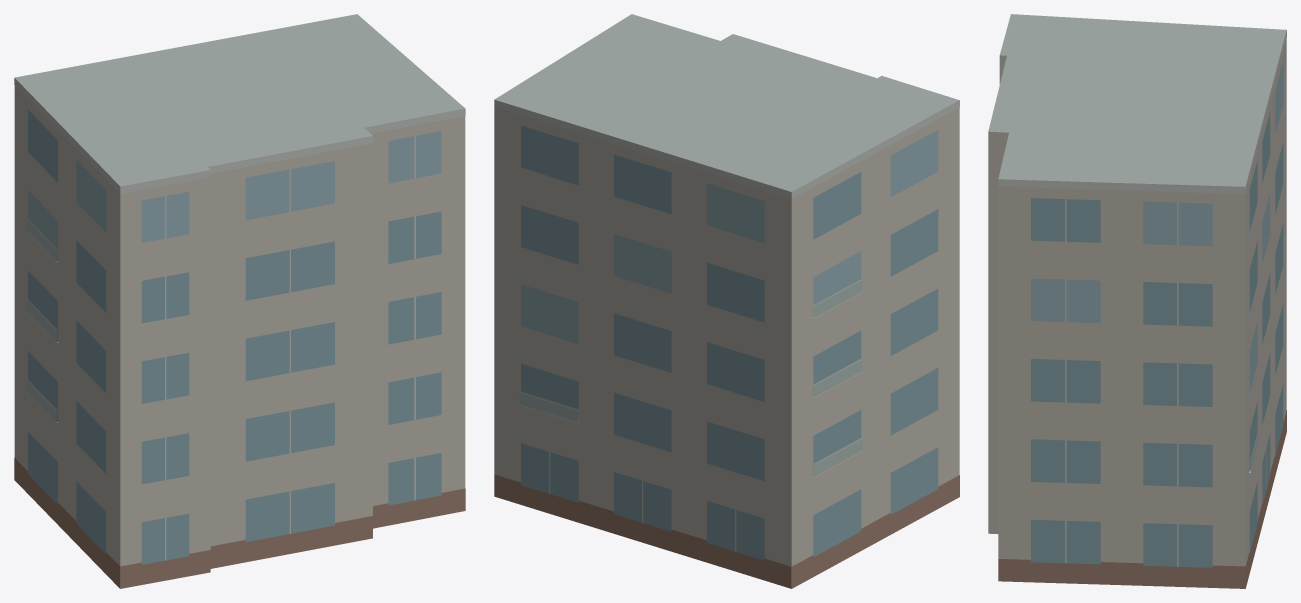
The model's file is survey-upis-32931376.glb.
3 renders of one model, left to right at view 1: azimuth 30°, elevation 25°; view 2: azimuth 150°, elevation 25°; view 3: azimuth 270°, elevation 25°, orthographic.
Parts seen in each view (by area): view 1: survey-upis-32931376.tmp; view 2: survey-upis-32931376.tmp; view 3: survey-upis-32931376.tmp.
Part boxes in pixels (box(x1,y1,x2,y2)): survey-upis-32931376.tmp: box(14, 14, 465, 588); survey-upis-32931376.tmp: box(494, 14, 959, 588); survey-upis-32931376.tmp: box(988, 14, 1286, 588).
Bounding box in the file's own units: 12.43 × 13.47 × 9.08.
